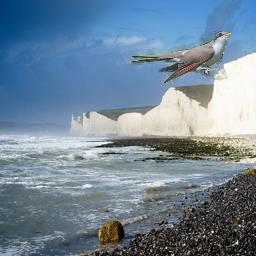Cuckoo: (129, 31, 231, 83)
